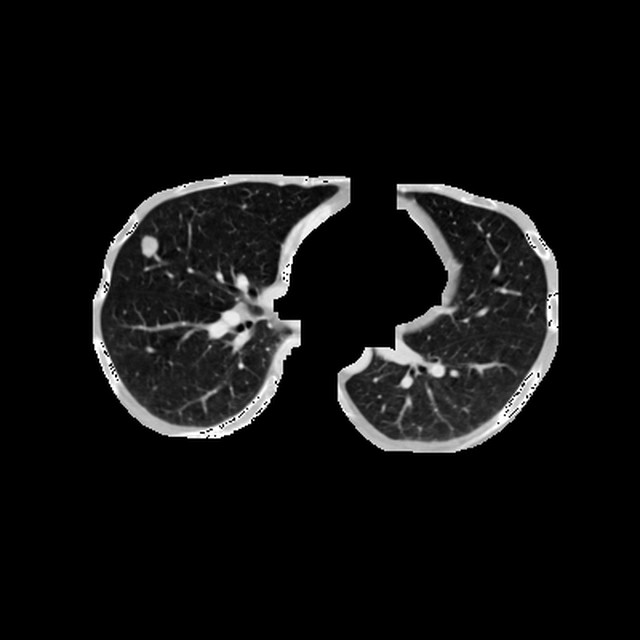PN: (139, 235, 158, 254)
